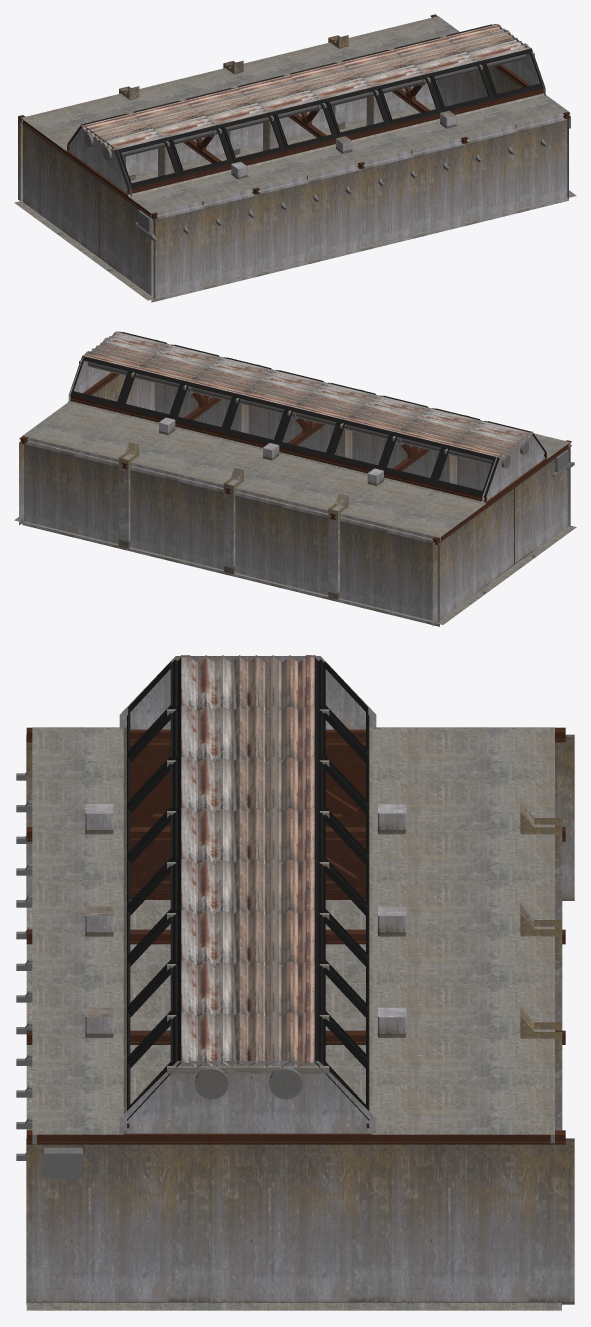
The model's file is dev_room_modern.glb.
3 views of the same model, one above another, from view 1: azimuth 30°, elevation 25°; view 2: azimuth 150°, elevation 25°; view 3: azimuth 270°, elevation 25° (orthographic). The views are drawn at different scales.
Parts seen in each view (by area): view 1: Plane.001, Plane.006, Cube, Plane.002, Plane.005, Cylinder.001, Cube.001; view 2: Plane.001, Plane.006, Cube, Plane.005, Cylinder, Plane.002; view 3: Plane.001, Plane.005, Cube, Plane.002, Plane.006, Plane.003, Plane, Cube.001, Cylinder.001, Cylinder.
Boxes of the visible parts, x1=… form: Plane.001: x1=20, y1=16, x2=568, y2=302; Plane.006: x1=18, y1=116, x2=155, y2=299; Cube: x1=18, y1=14, x2=570, y2=219; Plane.002: x1=14, y1=102, x2=576, y2=300; Plane.005: x1=436, y1=24, x2=568, y2=198; Cylinder.001: x1=103, y1=43, x2=528, y2=160; Cube.001: x1=135, y1=115, x2=570, y2=242; Plane.001: x1=22, y1=331, x2=570, y2=626; Plane.006: x1=432, y1=431, x2=568, y2=625; Cube: x1=19, y1=339, x2=571, y2=599; Plane.005: x1=19, y1=331, x2=154, y2=525; Cylinder: x1=85, y1=351, x2=510, y2=468; Plane.002: x1=14, y1=517, x2=576, y2=624; Plane.001: x1=32, y1=655, x2=554, y2=1144; Plane.005: x1=26, y1=1061, x2=574, y2=1304; Cube: x1=26, y1=727, x2=565, y2=1144; Plane.002: x1=26, y1=900, x2=561, y2=1310; Plane.006: x1=26, y1=656, x2=574, y2=900; Plane.003: x1=325, y1=742, x2=365, y2=899; Plane: x1=130, y1=742, x2=170, y2=899; Cube.001: x1=16, y1=772, x2=82, y2=1178; Cylinder.001: x1=194, y1=759, x2=228, y2=1099; Cylinder: x1=269, y1=759, x2=302, y2=1099.
Bounding box in the file's own units: 24.52 × 7.26 × 13.82.
7 materials, 5 textured.
